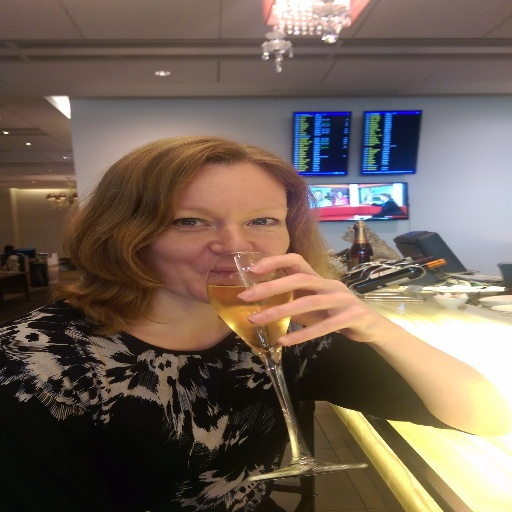hand: (269, 258, 376, 352)
